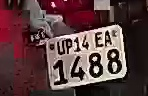1: (52, 59, 69, 85), (72, 37, 82, 54)
4: (69, 54, 86, 84), (82, 35, 91, 51)
8: (104, 50, 123, 76), (87, 53, 104, 82)
A: (104, 30, 113, 47)
E: (92, 31, 104, 53)
P: (65, 40, 73, 54)
U: (57, 39, 66, 58)
